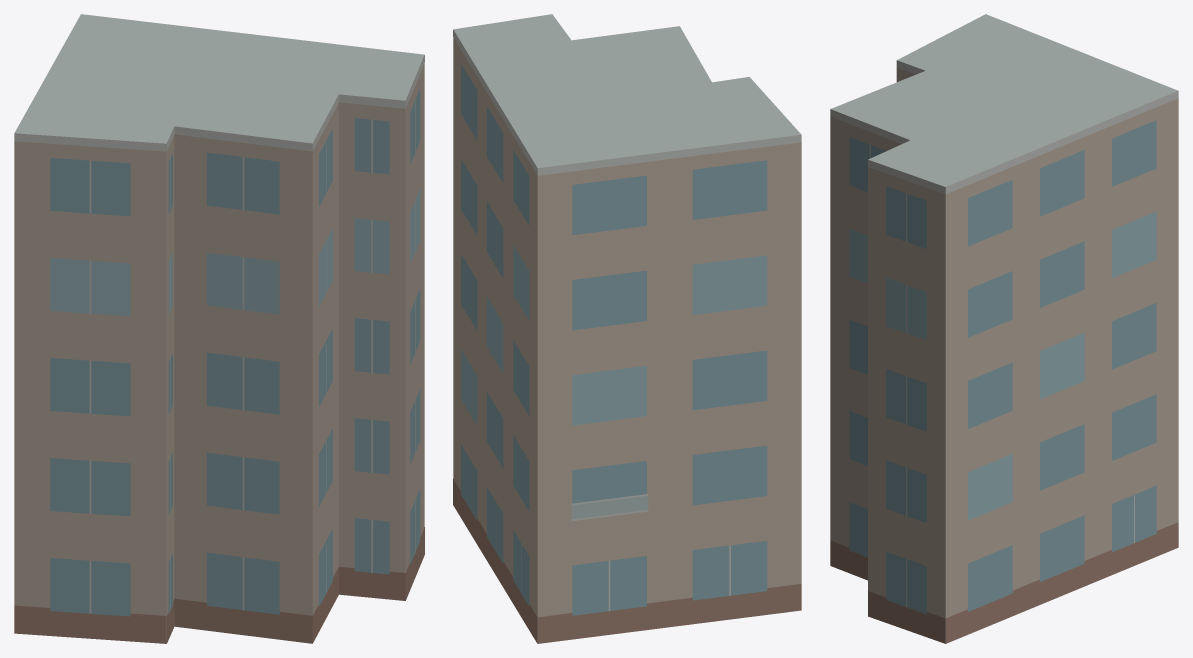
File: survey-upis-32997646.glb
3 views of the same model, side by side, from view 1: azimuth 30°, elevation 25°; view 2: azimuth 150°, elevation 25°; view 3: azimuth 270°, elevation 25° (orthographic). The views are drawn at different scales.
Visible parts, largest first — view 1: survey-upis-32997646.tmp; view 2: survey-upis-32997646.tmp; view 3: survey-upis-32997646.tmp.
Boxes of the visible parts, <box> form: survey-upis-32997646.tmp: <box>14,14,424,643</box>; survey-upis-32997646.tmp: <box>453,14,801,643</box>; survey-upis-32997646.tmp: <box>830,14,1178,643</box>.
Bounding box in the file's own units: 12.4 × 15.25 × 10.54.
